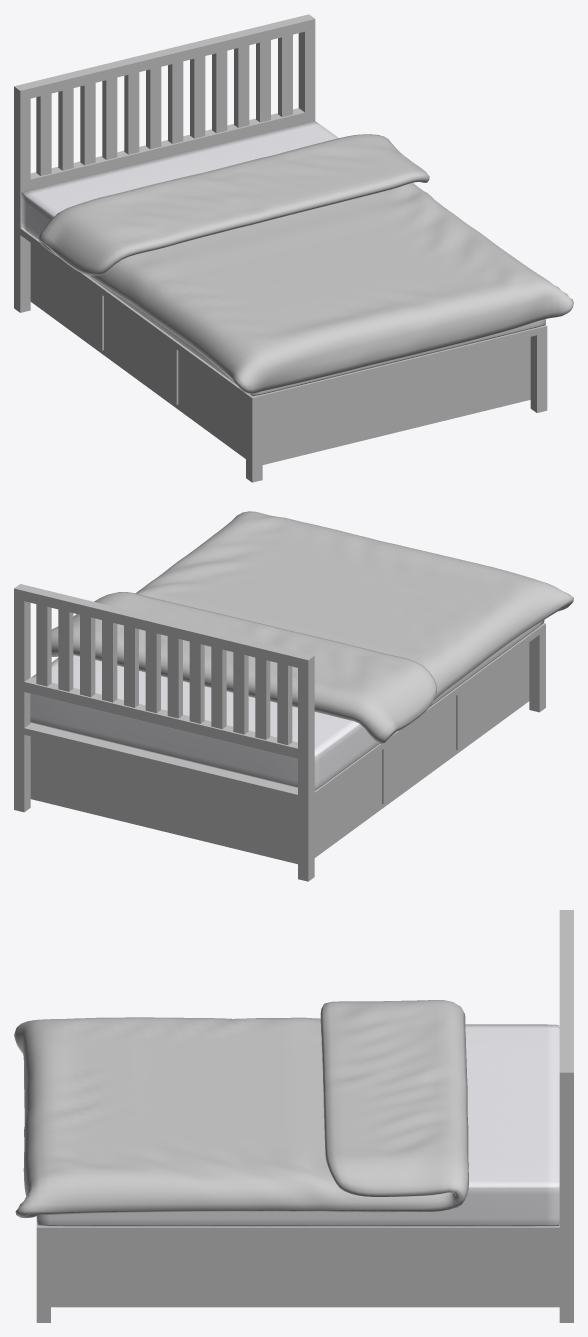
The model's file is Bed14.fbx.
3 views of the same model, one above another, from view 1: azimuth 30°, elevation 25°; view 2: azimuth 150°, elevation 25°; view 3: azimuth 270°, elevation 25° (orthographic). The views are drawn at different scales.
Parts seen in each view (by area): view 1: Blanket14, BedFrame14, Mattress14, BedFrame14_Drawer01, BedFrame14_Drawer02, BedFrame14_Drawer03; view 2: BedFrame14, Blanket14, Mattress14, BedFrame14_Drawer02, BedFrame14_Drawer03, BedFrame14_Drawer01; view 3: Blanket14, BedFrame14, Mattress14.
Boxes of the visible parts, <box> form: Blanket14: <box>38,134,573,393</box>; BedFrame14: <box>14,14,547,482</box>; Mattress14: <box>21,120,545,396</box>; BedFrame14_Drawer01: <box>32,244,103,350</box>; BedFrame14_Drawer02: <box>107,299,178,404</box>; BedFrame14_Drawer03: <box>181,353,245,455</box>; BedFrame14: <box>14,584,545,881</box>; Blanket14: <box>51,511,573,743</box>; Mattress14: <box>30,620,544,790</box>; BedFrame14_Drawer02: <box>382,698,453,804</box>; BedFrame14_Drawer03: <box>456,643,527,749</box>; BedFrame14_Drawer01: <box>314,752,379,854</box>; Blanket14: <box>14,1000,468,1218</box>; BedFrame14: <box>36,910,573,1322</box>; Mattress14: <box>36,1024,559,1226</box>.
Bounding box in the file's own units: 178 × 108 × 218.
